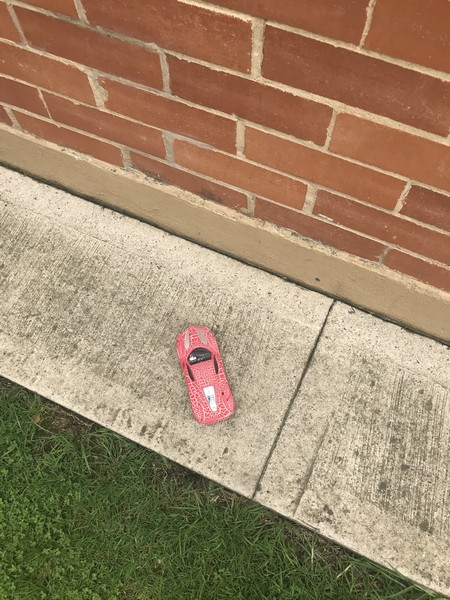RC: (174, 326, 237, 426)
